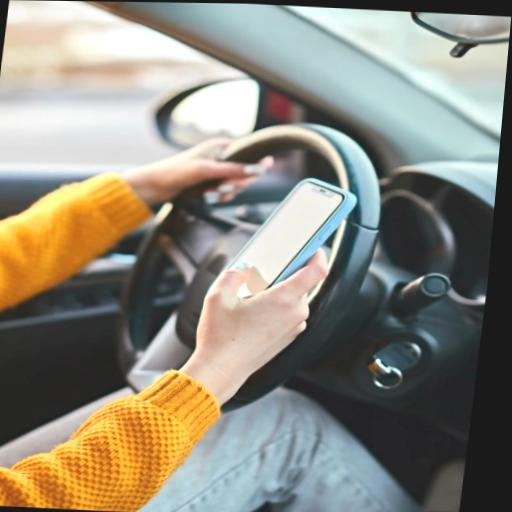Hands-on-the-Wheel: (104, 123, 287, 223)
